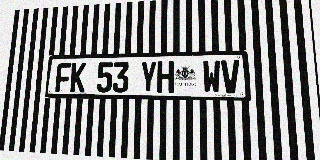3: (112, 62, 129, 93)
5: (96, 62, 113, 92)
F: (55, 63, 71, 92)
H: (157, 61, 174, 93)
K: (70, 63, 86, 92)
V: (221, 60, 241, 93)
W: (202, 60, 221, 93)
Y: (140, 61, 157, 93)
